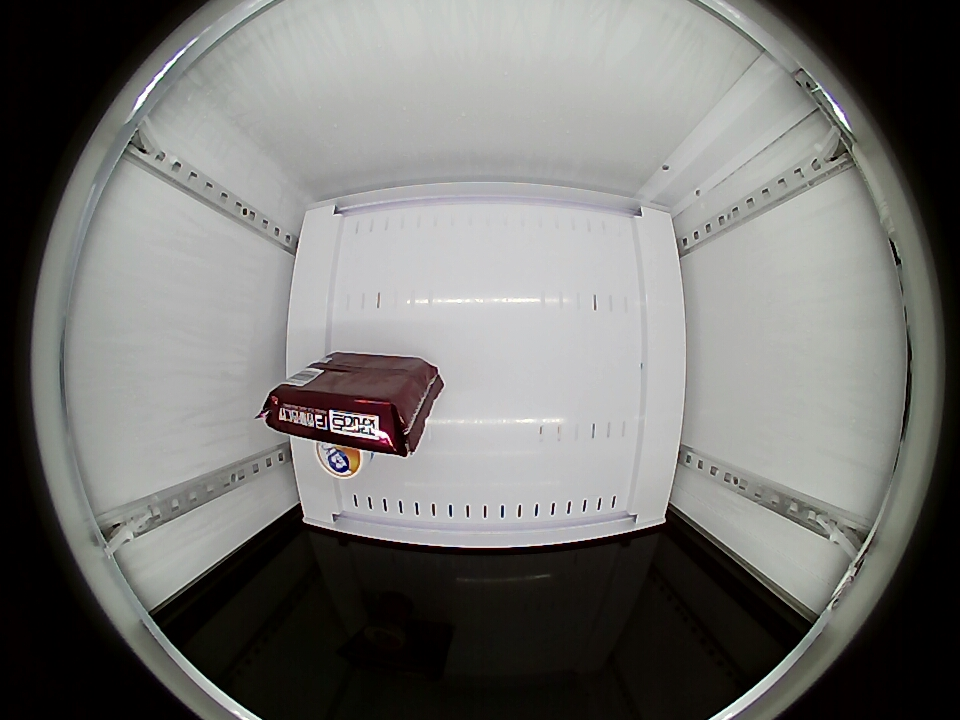haochidian: (263, 366, 429, 461)
